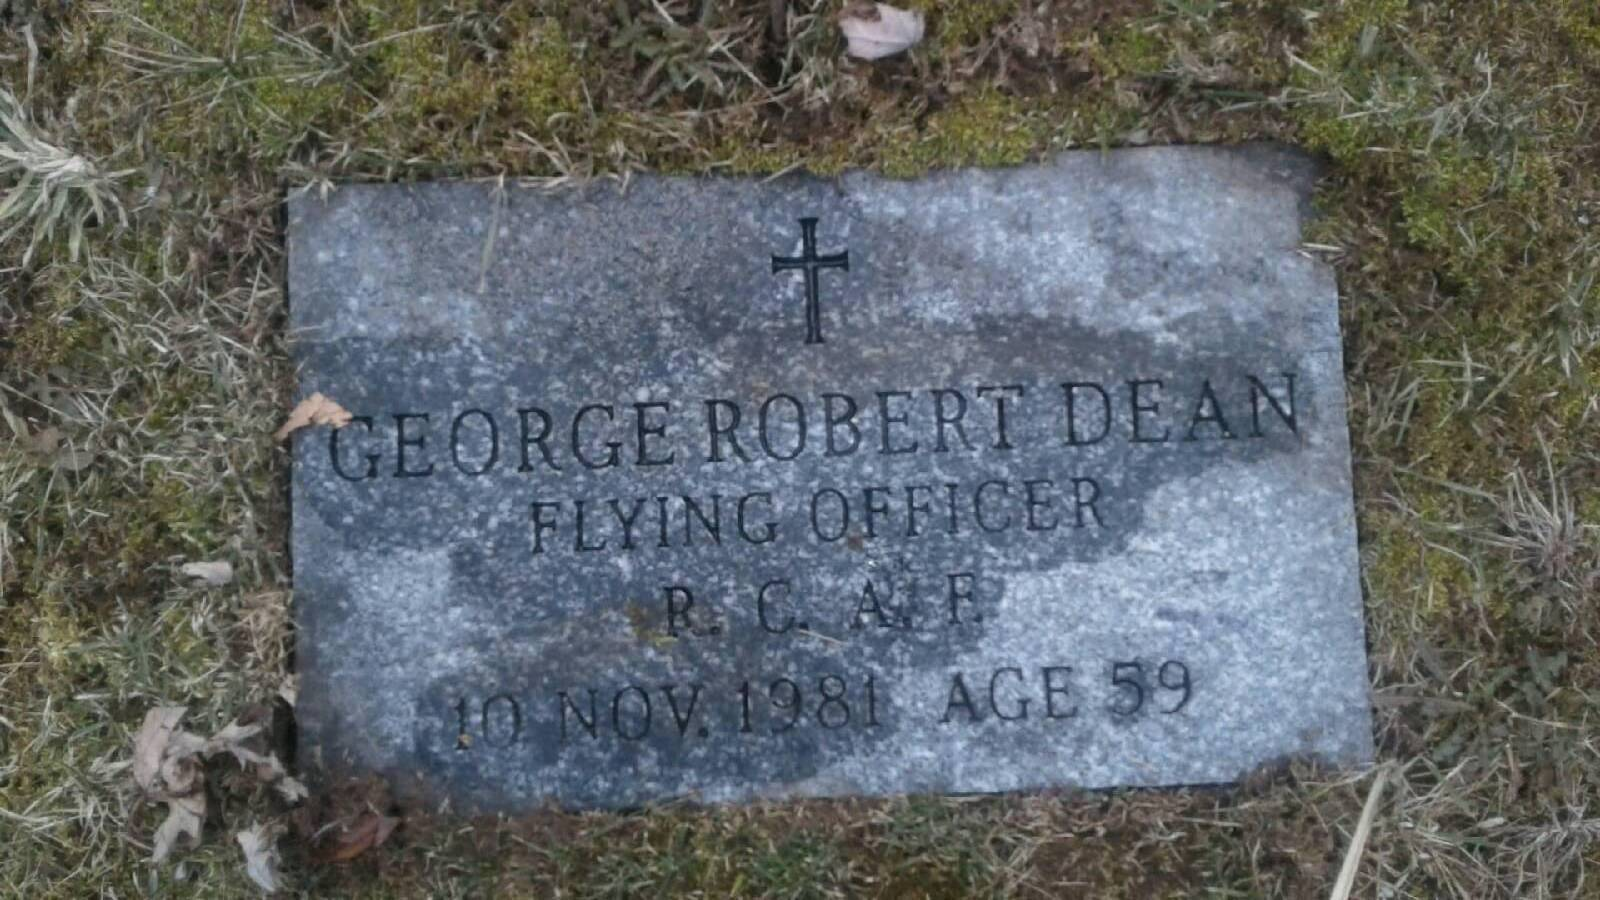flat: (282, 143, 1375, 815)
